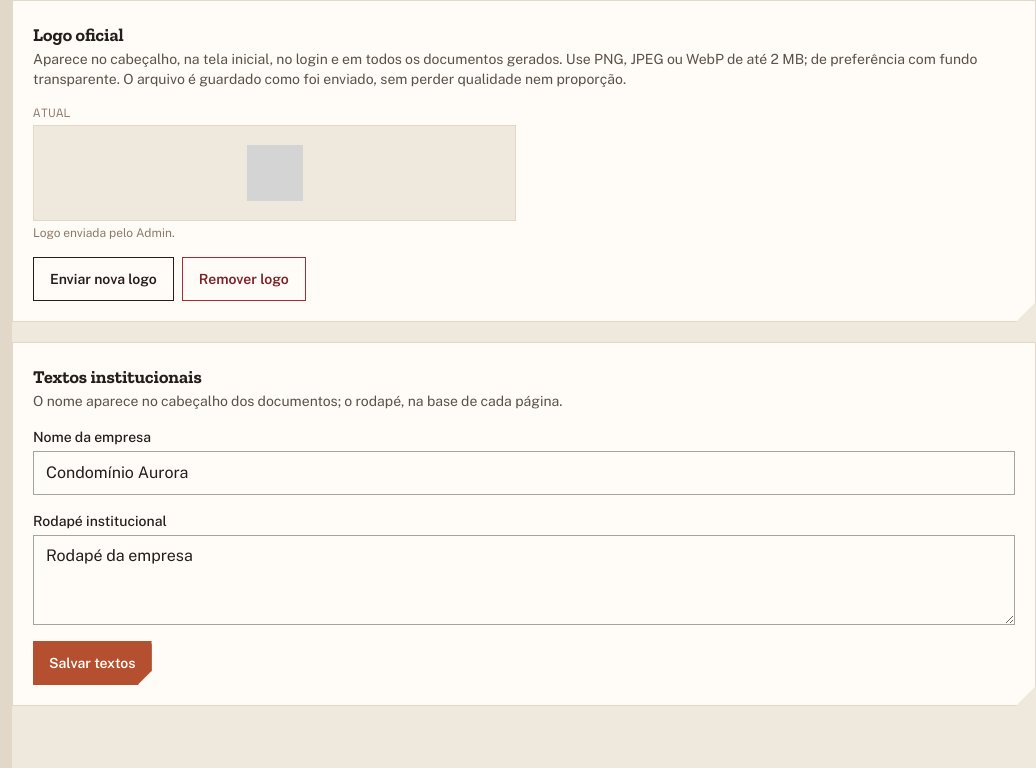
Scenario: AbaIdentidade — textos institucionais › os campos vêm preenchidos com o que está salvo e salvar envia nome e rodapé
Expected: the text box labelled "Rodapé institucional" holds "Rodapé da empresa", [33,535,1015,625]
Replace the text in the field labelled "Nome da empresa" with "Condomínio Aurora Ltda" at (524, 473), box [33,451,1015,495]
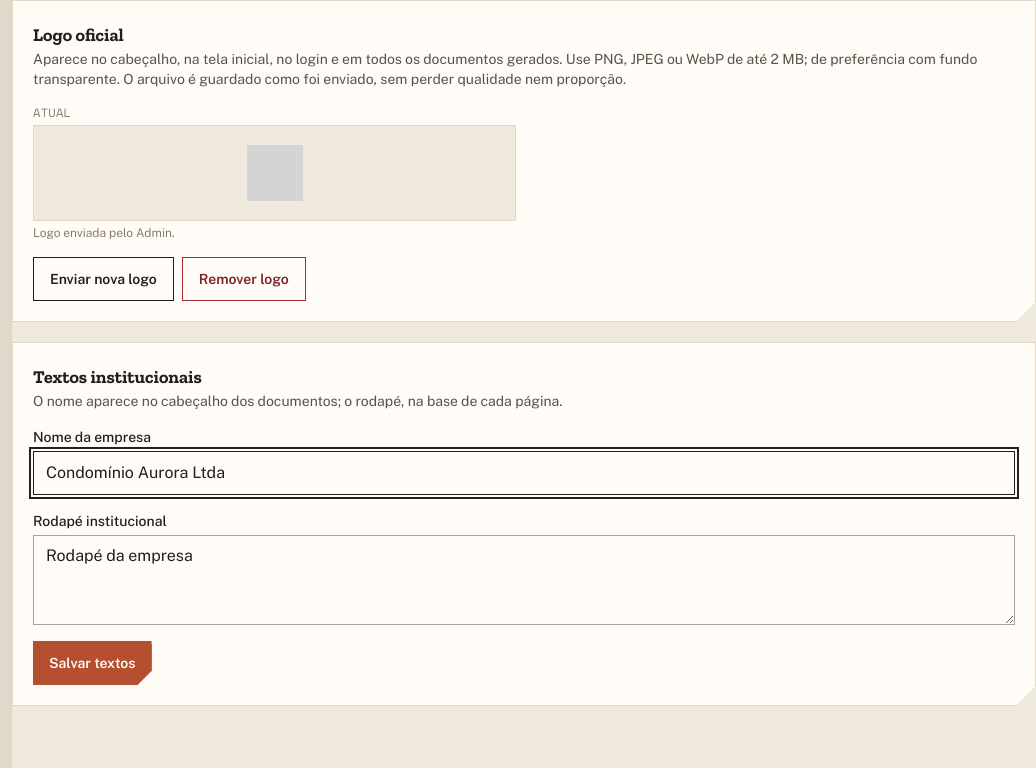
Click the button "Salvar textos" at (92, 663), box [33,641,152,685]
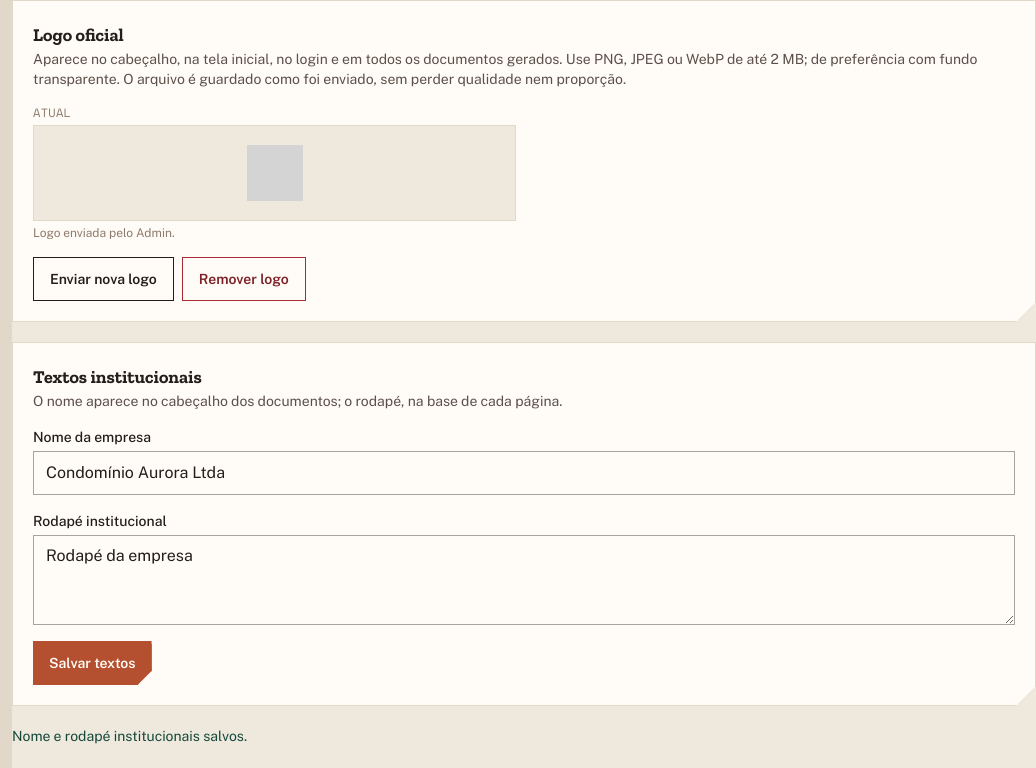
Expected: the message shows "salvos", [12,728,247,744]
